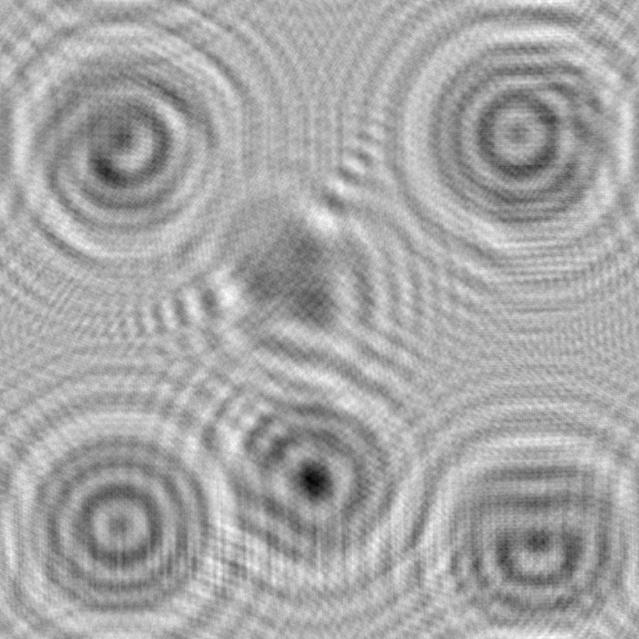D: (394, 400, 639, 639)
G: (0, 0, 267, 277)
O: (0, 391, 250, 639)
P: (156, 323, 449, 621)
Q: (397, 0, 639, 261)
Y: (151, 129, 439, 409)
